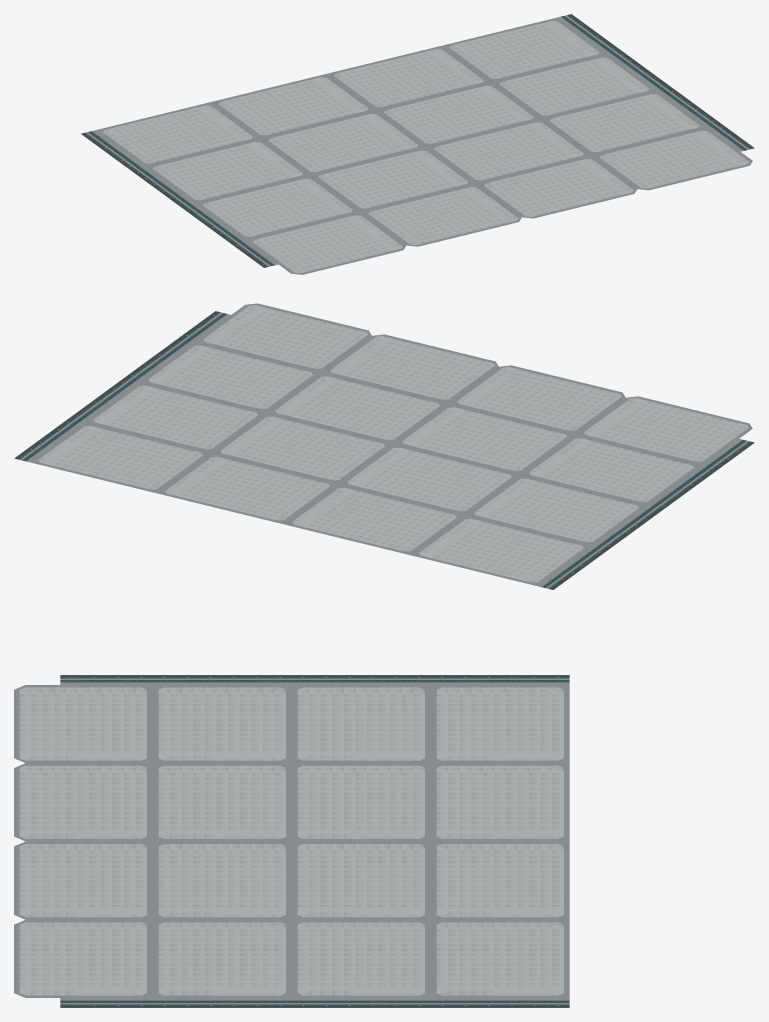
Rendered from Hangar2.fbx.
3 views of the same model, one above another, from view 1: azimuth 30°, elevation 25°; view 2: azimuth 150°, elevation 25°; view 3: azimuth 270°, elevation 25° (orthographic). The views are drawn at different scales.
Parts seen in each view (by area): view 1: SolHangar.002; view 2: SolHangar.002; view 3: SolHangar.002.
Boxes of the visible parts, x1=… form: SolHangar.002: x1=81, y1=14, x2=754, y2=274; SolHangar.002: x1=14, y1=303, x2=754, y2=589; SolHangar.002: x1=14, y1=675, x2=569, y2=1007.
Size of the model in its own units: 5100 by 4800 by 25.
